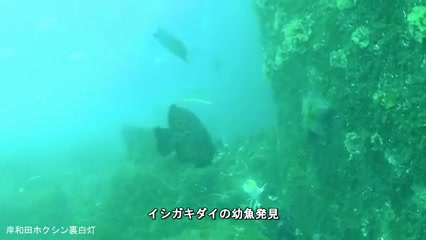smallfish: (154, 100, 220, 168)
